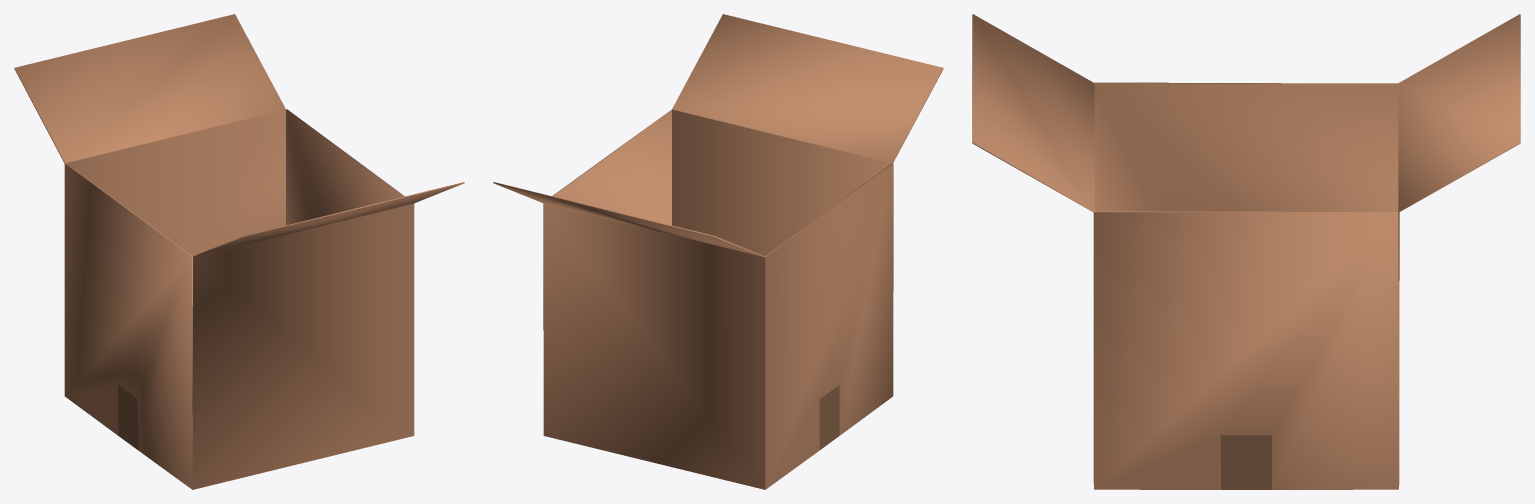
The model's file is cardboardBoxOpen.fbx.
The picture shows the model from 3 angles, left to right: view 1: azimuth 30°, elevation 25°; view 2: azimuth 150°, elevation 25°; view 3: azimuth 270°, elevation 25°; orthographic projection. The views are drawn at different scales.
Parts seen in each view (by area): view 1: Plane; view 2: Plane; view 3: Plane.
Part boxes in pixels (box(x1,y1,x2,y2)): Plane: box(14, 14, 464, 489); Plane: box(493, 14, 943, 489); Plane: box(972, 14, 1520, 489).
Bounding box in the file's own units: 401 × 501 × 718.
